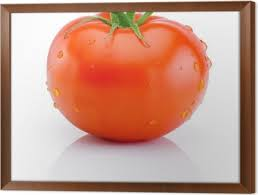tomato: (47, 11, 209, 142)
